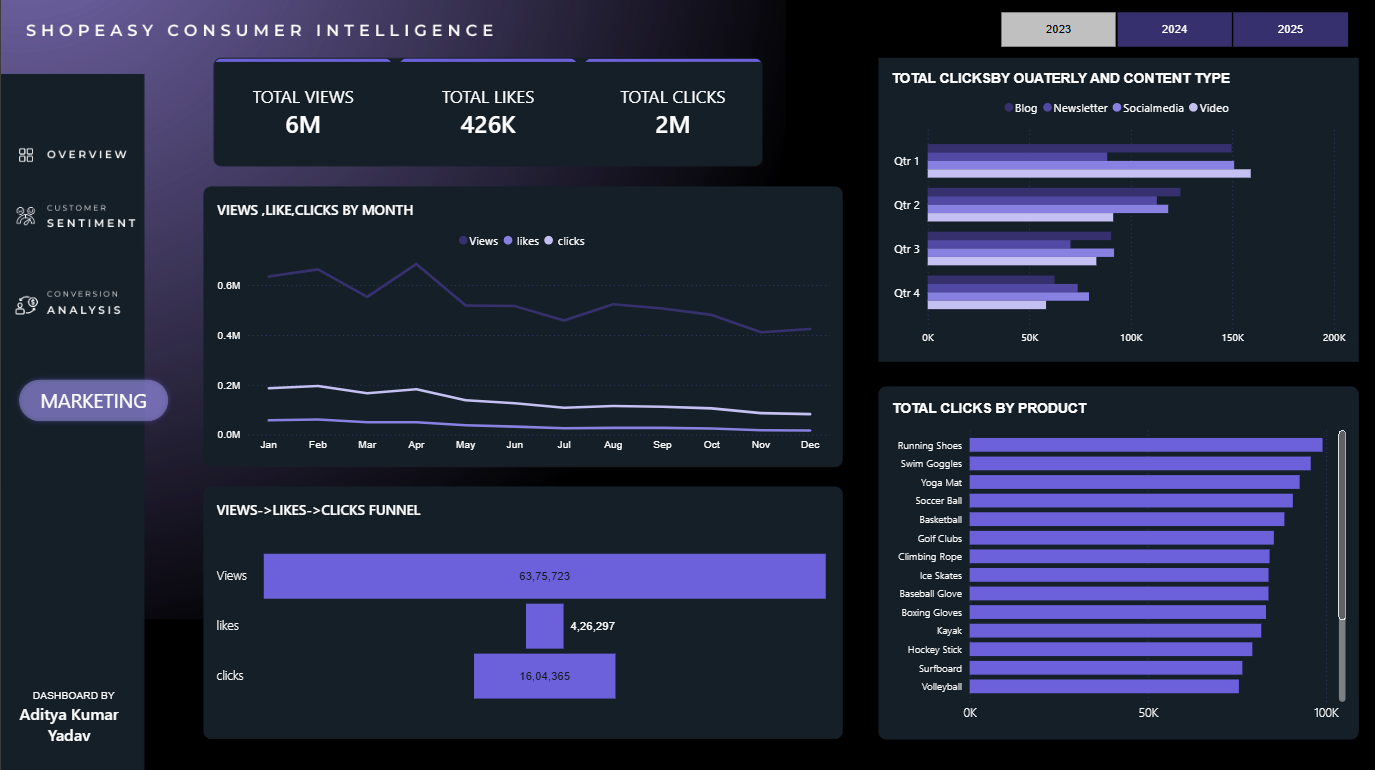

The page's visual inventory and layout, read from the dashboard file:
{"tool":"powerbi","page":{"name":"Marketing Performance","canvas":[1600,900],"ordinal":3},"visuals":[{"type":"shape","box":[235,566.7,743.3,293.3],"z":0},{"type":"cardVisual","fields":{"Data":["Sum(engagement_data_cleaned.Views)","Sum(engagement_data_cleaned.likes)","Sum(engagement_data_cleaned.clicks)"]},"box":[246.7,68.3,638.3,126.7],"z":1000},{"type":"lineChart","title":"VIEWS ,LIKE,CLICKS BY MONTH","fields":{"Y":["Sum(engagement_data_cleaned.Views)","Sum(engagement_data_cleaned.likes)","Sum(engagement_data_cleaned.clicks)"],"Category":["Calendar.MonthNameShort"]},"box":[235,218.3,743.3,326.7],"z":2000},{"type":"funnel","title":"VIEWS->LIKES->CLICKS FUNNEL","fields":{"Y":["Sum(engagement_data_cleaned.Views)","Sum(engagement_data_cleaned.likes)","Sum(engagement_data_cleaned.clicks)"]},"box":[235,566.7,743.3,293.3],"z":3000},{"type":"barChart","title":"TOTAL CLICKS BY PRODUCT","fields":{"Y":["Sum(engagement_data_cleaned.clicks)"],"Category":["products.ProductName"]},"box":[1020,450,558.3,410],"z":4000},{"type":"clusteredBarChart","title":"TOTAL CLICKSBY OUATERLY AND CONTENT TYPE ","fields":{"Category":["Calendar.Date.Variation.Date Hierarchy.Quarter"],"Y":["Sum(engagement_data_cleaned.clicks)"],"Series":["engagement_data_cleaned.ContentType"]},"box":[1020,68.3,558.3,353.3],"z":5000},{"type":"shape","box":[0,416.7,158.3,150],"z":6000},{"type":"shape","box":[0,421.7,215,90],"z":7000},{"type":"pageNavigator","box":[0,205,183.3,100],"z":8000},{"type":"pageNavigator","box":[0,305,183.3,100],"z":9000},{"type":"pageNavigator","box":[0,131.7,183.3,100],"z":10000},{"type":"slicer","fields":{"Values":["Calendar.Date.Variation.Date Hierarchy.Year"]},"box":[1142.6,13.1,442.6,44.3],"z":11000},{"type":"textbox","box":[0,802.3,158.4,97.4],"z":12000}]}

Visuals, with their boxes in screenshot pixels (x1, y1, x2, y2), scaled from the page's 1600x900 canvas onto the 1375x770 screenshot:
shape: x1=202 y1=485 x2=841 y2=736
cardVisual - Sum(engagement_data_cleaned.Views) x Sum(engagement_data_cleaned.likes): x1=212 y1=58 x2=761 y2=167
"VIEWS ,LIKE,CLICKS BY MONTH" lineChart: x1=202 y1=187 x2=841 y2=466
"VIEWS->LIKES->CLICKS FUNNEL" funnel: x1=202 y1=485 x2=841 y2=736
"TOTAL CLICKS BY PRODUCT" barChart: x1=877 y1=385 x2=1356 y2=736
"TOTAL CLICKSBY OUATERLY AND CONTENT TYPE " clusteredBarChart: x1=877 y1=58 x2=1356 y2=361
shape: x1=0 y1=357 x2=136 y2=485
shape: x1=0 y1=361 x2=185 y2=438
pageNavigator: x1=0 y1=175 x2=158 y2=261
pageNavigator: x1=0 y1=261 x2=158 y2=346
pageNavigator: x1=0 y1=113 x2=158 y2=198
slicer - Calendar.Date.Variation.Date Hierarchy.Year: x1=982 y1=11 x2=1362 y2=49
textbox: x1=0 y1=686 x2=136 y2=769
